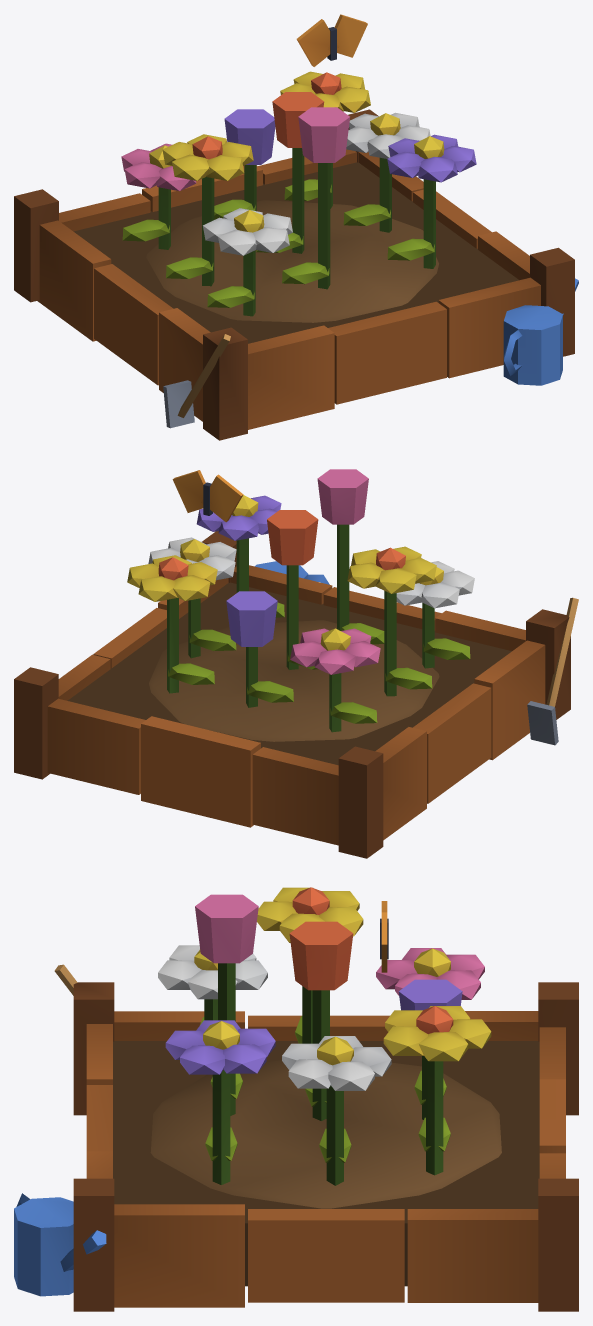
The model's file is b_blumen.glb.
3 views of the same model, one above another, from view 1: azimuth 30°, elevation 25°; view 2: azimuth 150°, elevation 25°; view 3: azimuth 270°, elevation 25° (orthographic). The views are drawn at different scales.
Visible parts, largest first — view 1: body, bob_butterfly; view 2: body, bob_butterfly; view 3: body, bob_butterfly.
Boxes of the visible parts, x1,y1,x2,y2 form: body: (14,71,578,440); bob_butterfly: (296,14,367,66); body: (14,469,578,858); bob_butterfly: (172,470,243,522); body: (14,887,578,1311); bob_butterfly: (380,901,388,972).
Size of the model in its own units: 1.9 by 1.3 by 1.95.
